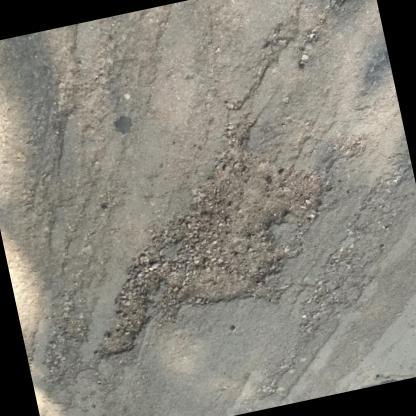pothole: (110, 118, 354, 336), (76, 255, 160, 362)
